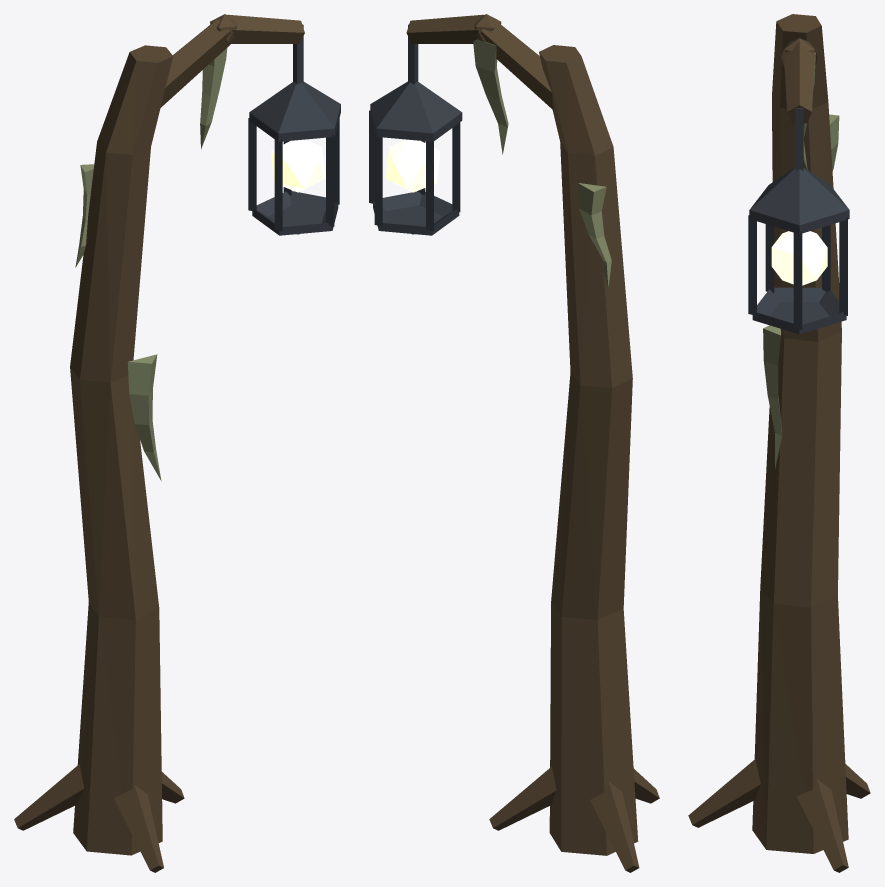
Rendered from Swamp_Lantern.fbx.
The picture shows the model from 3 angles, left to right: view 1: azimuth 30°, elevation 25°; view 2: azimuth 150°, elevation 25°; view 3: azimuth 270°, elevation 25°; orthographic projection. The views are drawn at different scales.
Parts seen in each view (by area): view 1: Post, Iron, Moss, Glow; view 2: Post, Iron, Moss, Glow; view 3: Post, Iron, Moss, Glow.
Boxes of the visible parts, bbox=[...] form: Post: bbox=[14, 14, 304, 872]; Iron: bbox=[248, 24, 340, 235]; Moss: bbox=[75, 48, 227, 480]; Glow: bbox=[271, 139, 325, 192]; Post: bbox=[406, 14, 659, 872]; Iron: bbox=[369, 24, 462, 235]; Moss: bbox=[473, 39, 611, 287]; Glow: bbox=[385, 139, 440, 192]; Post: bbox=[688, 14, 870, 872]; Iron: bbox=[748, 108, 849, 334]; Moss: bbox=[763, 52, 839, 468]; Glow: bbox=[771, 231, 827, 285].
Bounding box in the file's own units: 2.22 × 5.71 × 1.11.
